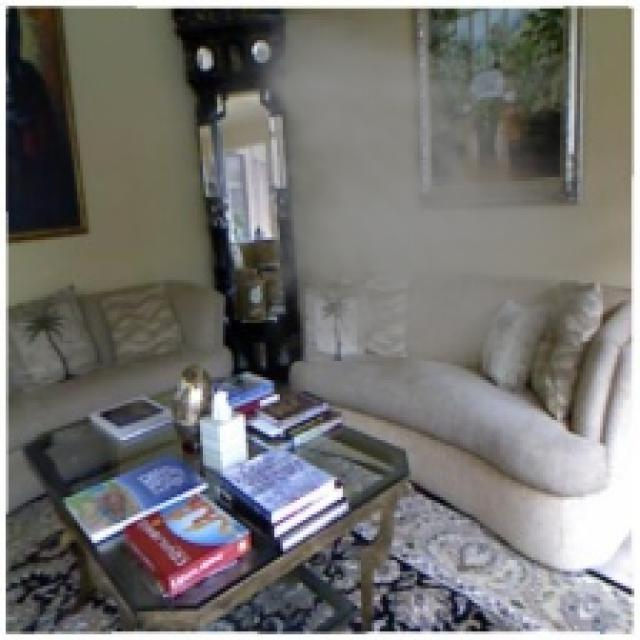smoke: (174, 14, 600, 374)
